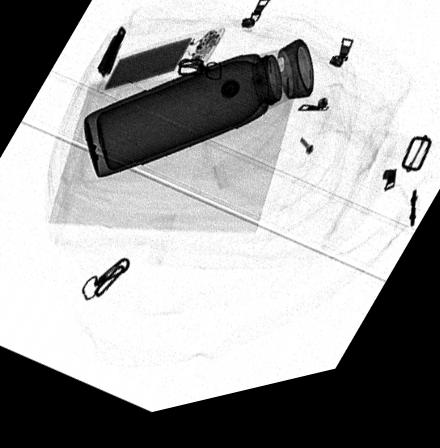Powerbank: (96, 36, 225, 98)
